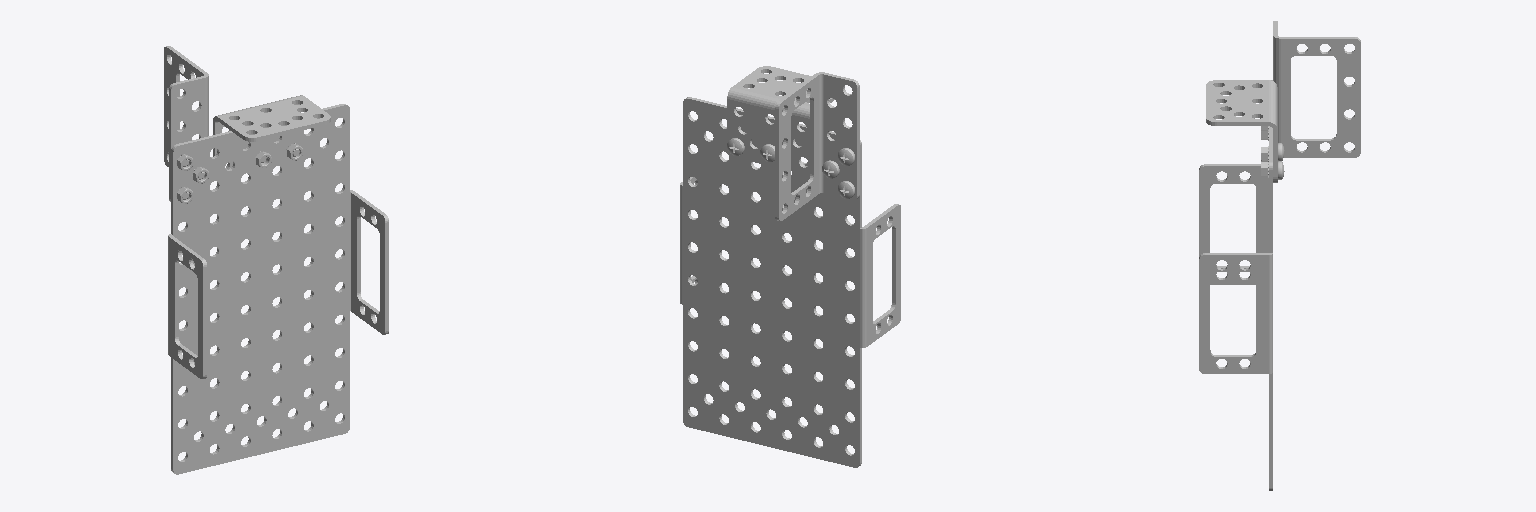
File: chassis.obj
3 renders of one model, left to right at view 1: azimuth 30°, elevation 25°; view 2: azimuth 150°, elevation 25°; view 3: azimuth 270°, elevation 25°, orthographic.
Parts seen in each view (by area): view 1: Chassis.001_Chassis.002, Chassis; view 2: Chassis.001_Chassis.002, Chassis; view 3: Chassis.001_Chassis.002, Chassis.
Boxes of the visible parts, x1,y1,x2,y2 form: Chassis.001_Chassis.002: [164, 46, 388, 474]; Chassis: [174, 139, 302, 210]; Chassis.001_Chassis.002: [680, 66, 900, 467]; Chassis: [727, 130, 857, 466]; Chassis.001_Chassis.002: [1199, 21, 1360, 490]; Chassis: [1261, 126, 1284, 179].
Size of the model in its own units: 3.73 by 7.44 by 2.81.